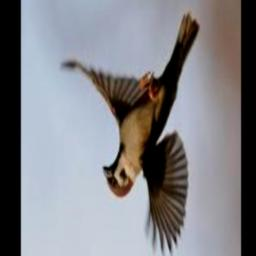Sparrow: (59, 12, 200, 256)
